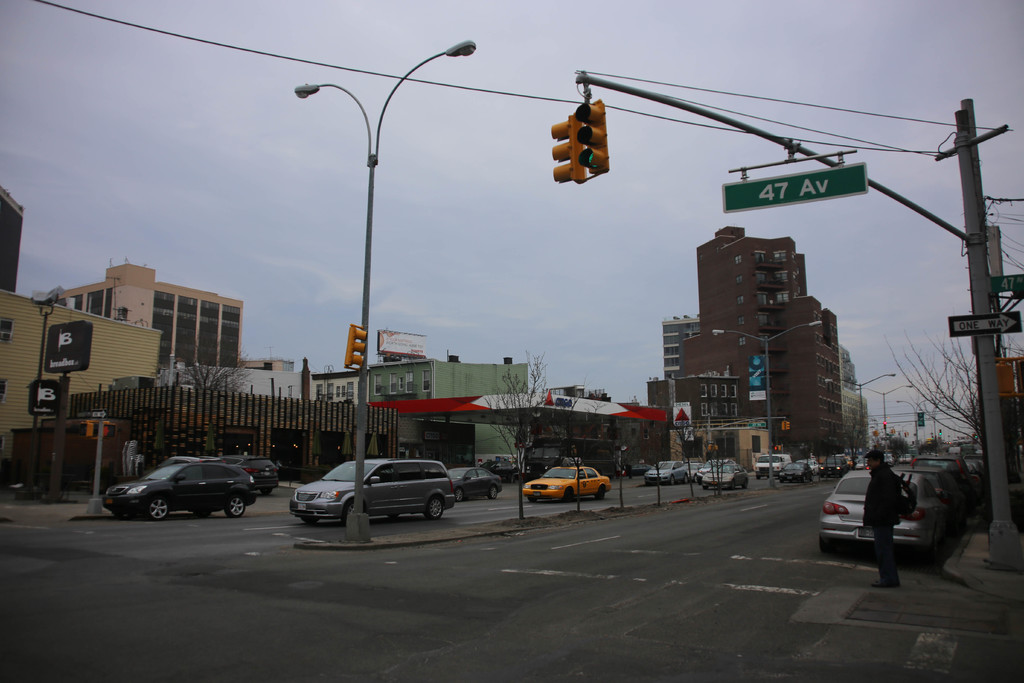green_light: (576, 104, 602, 170)
